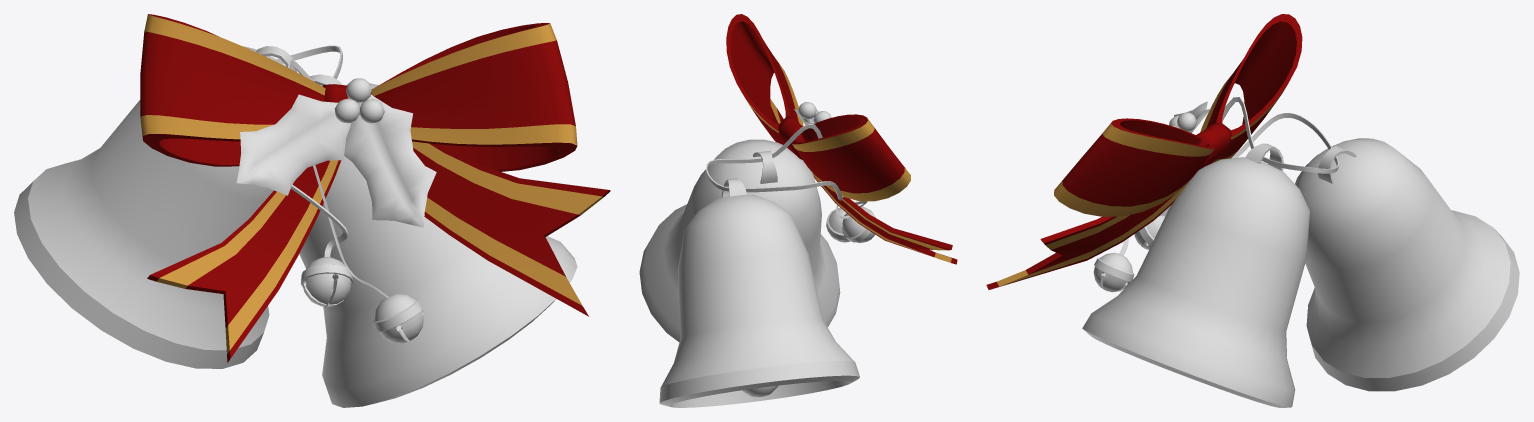
Rendered from bell.fbx.
The picture shows the model from 3 angles, left to right: view 1: azimuth 30°, elevation 25°; view 2: azimuth 150°, elevation 25°; view 3: azimuth 270°, elevation 25°; orthographic projection. The views are drawn at different scales.
Visible parts, largest first — view 1: Bell003; view 2: Bell003; view 3: Bell003.
Boxes of the visible parts, left/top/right/bottom form: Bell003: left=14, top=14, right=610, bottom=407; Bell003: left=639, top=14, right=957, bottom=407; Bell003: left=986, top=14, right=1519, bottom=407.
Size of the model in its own units: 24.53 by 22.48 by 34.35.
